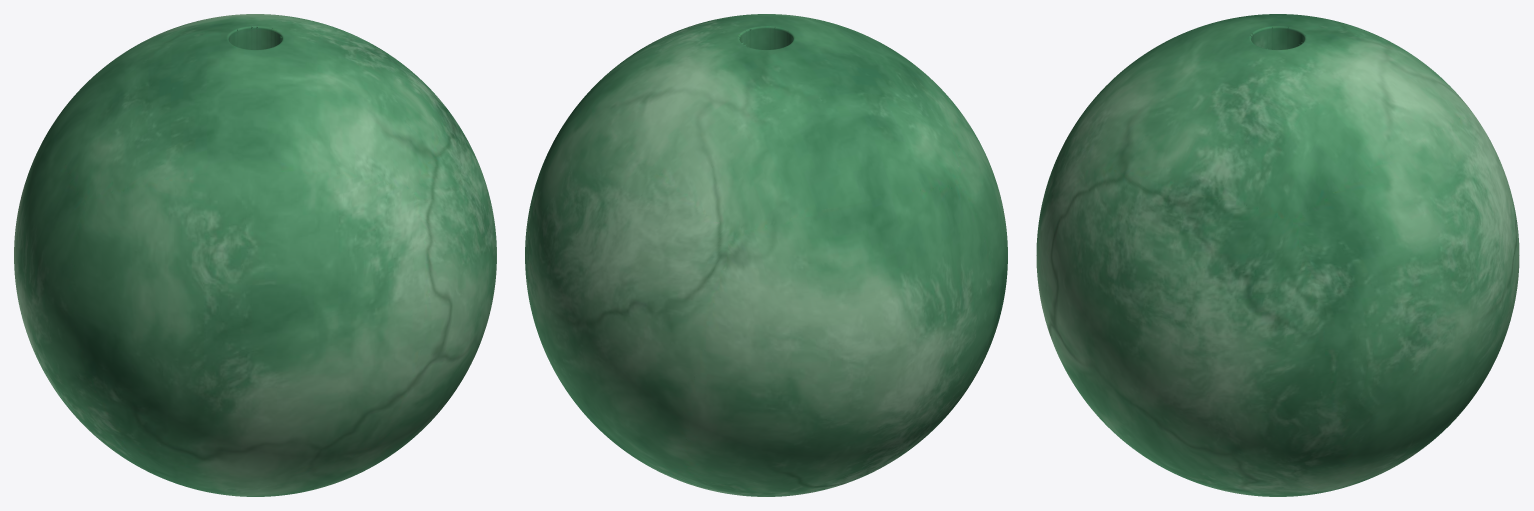
The model's file is stone-jade.glb.
The picture shows the model from 3 angles, left to right: view 1: azimuth 30°, elevation 25°; view 2: azimuth 150°, elevation 25°; view 3: azimuth 270°, elevation 25°; orthographic projection.
Visible parts, largest first — view 1: Bead_hi; view 2: Bead_hi; view 3: Bead_hi.
Part boxes in pixels (<box>): Bead_hi: <box>14,14,496,496</box>; Bead_hi: <box>525,14,1007,496</box>; Bead_hi: <box>1036,14,1519,496</box>.
Bounding box in the file's own units: 1 × 0.9939 × 1.
1 material, 1 textured.
